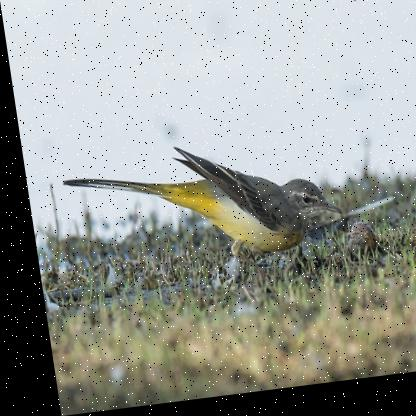Burung: (57, 135, 340, 300)
